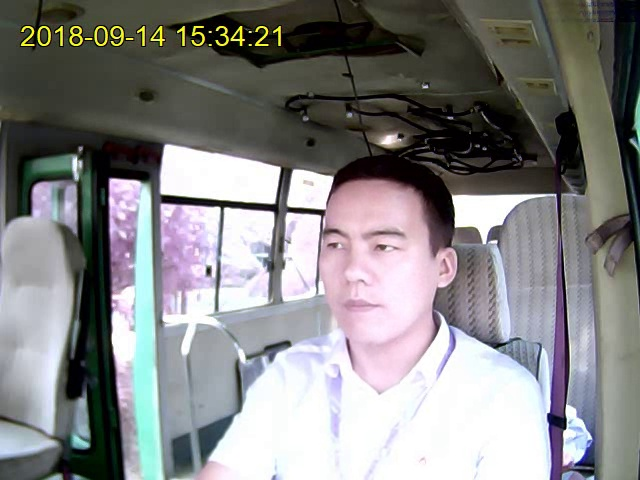closed_mouth: (336, 297, 388, 317)
open_eye: (373, 242, 401, 254), (324, 239, 346, 252)
